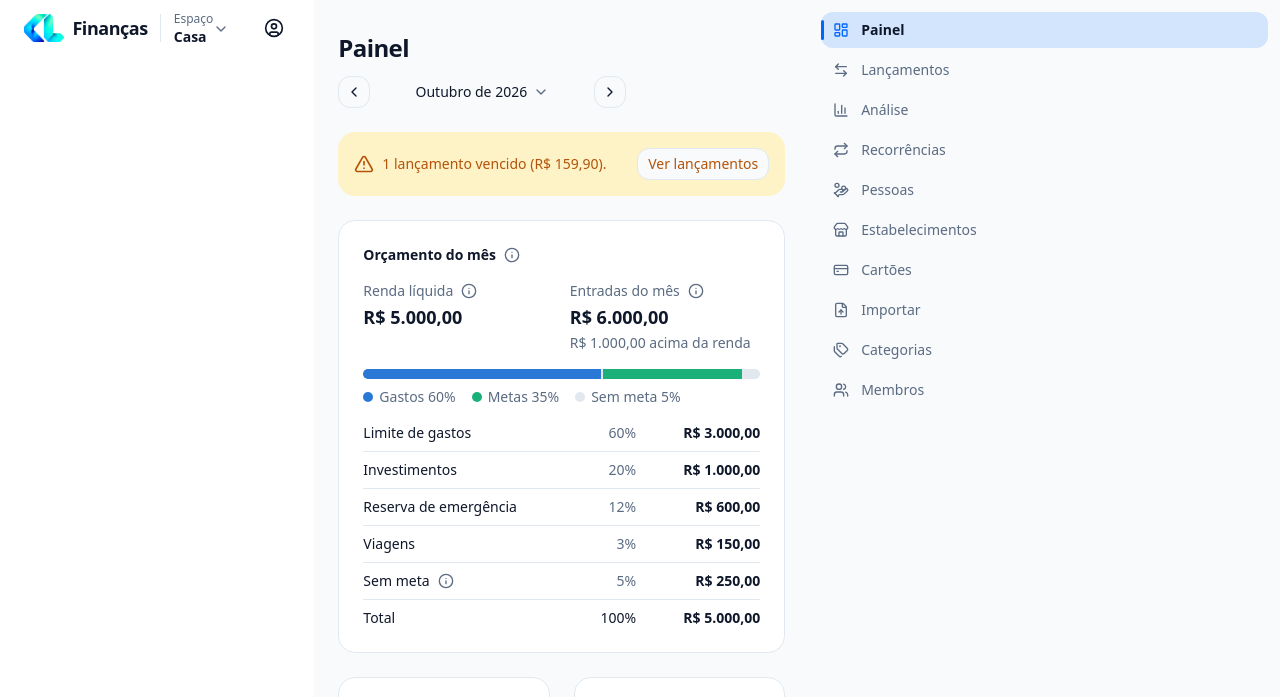
DashboardPage › shows what the limit and the goals leave without a destination
// Never read as money to spend (ADR 0051): said behind the "ⓘ" on its line.
Click the button named "Sobre Sem meta".
click(446, 581)  # box [430,565,462,597]
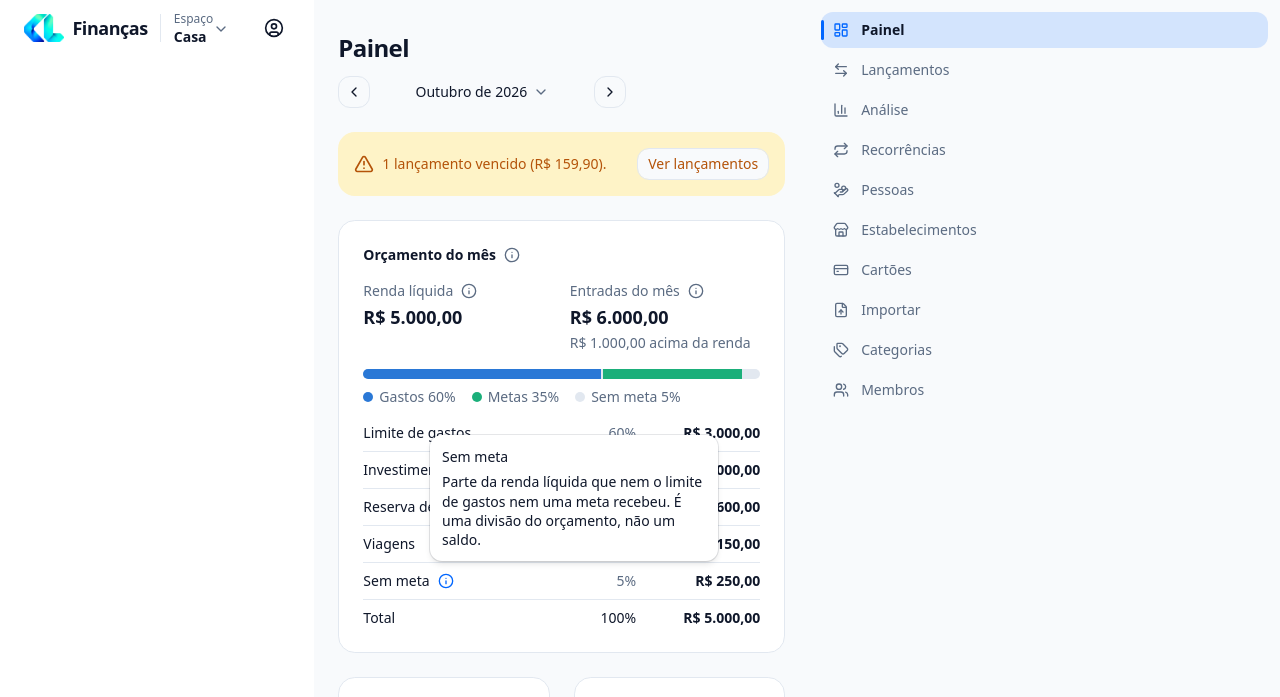
Check: the dialog "Sem meta" shows "Parte da renda líquida que nem o limite de gastos nem uma meta recebeu. É uma divisão do orçamento, não um saldo.", box [442,472,702,549]
